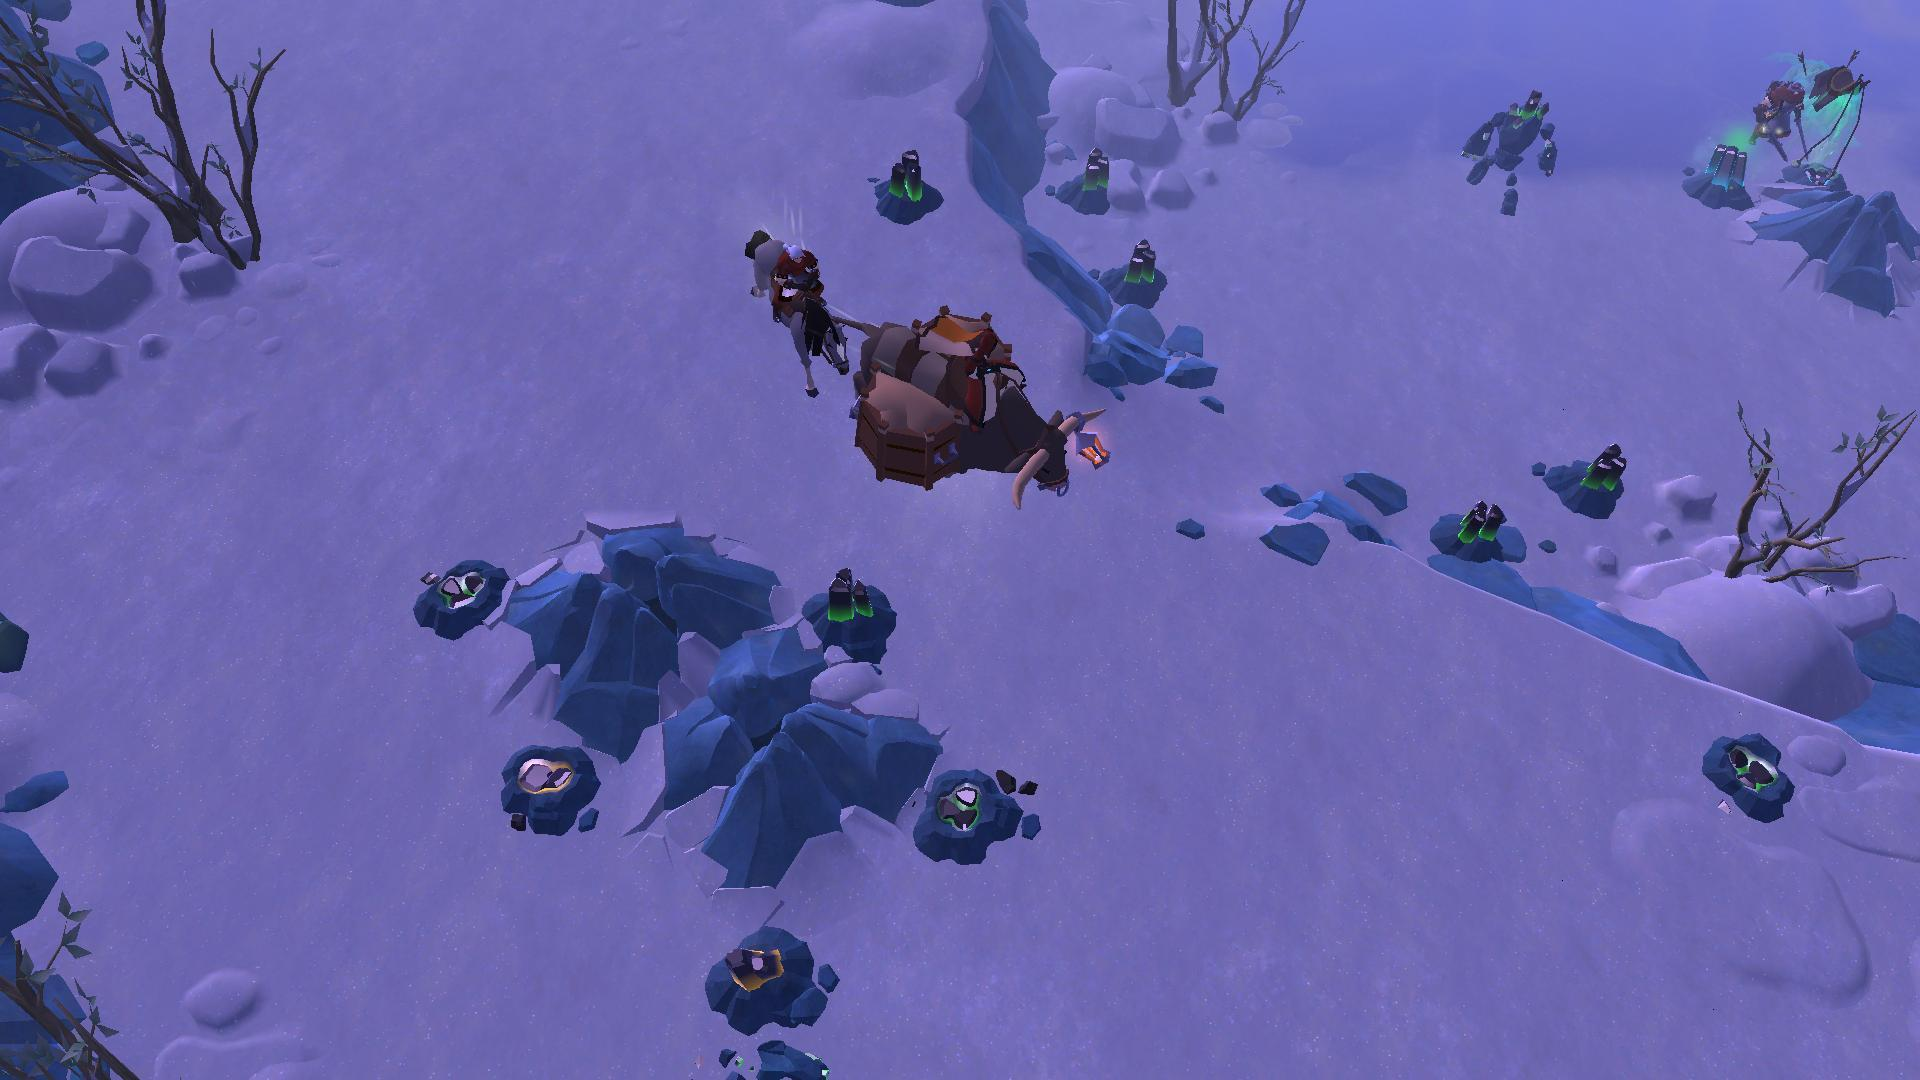enemy_factionUndead: (1751, 71, 1805, 173), (1800, 55, 1866, 123)
ore_t3: (824, 564, 881, 632), (881, 138, 930, 212), (1451, 492, 1507, 549), (1120, 231, 1162, 291), (1585, 439, 1627, 497), (1083, 140, 1109, 194)
ore_t4: (1701, 144, 1749, 206)
